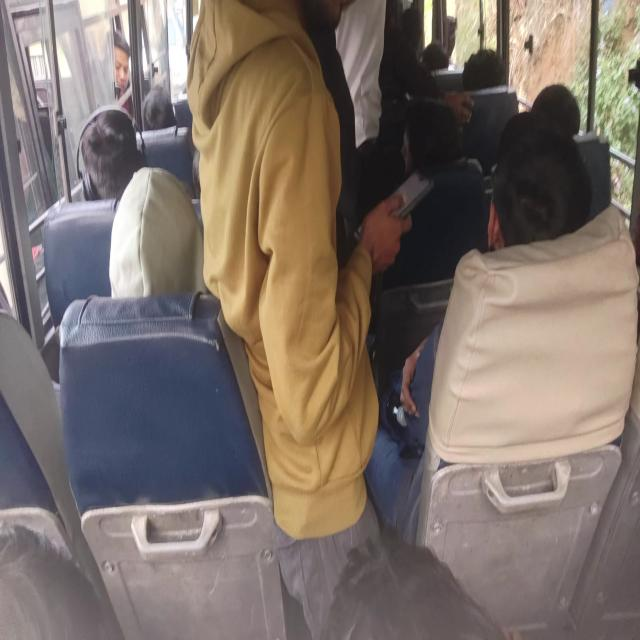person: (194, 0, 373, 383), (339, 542, 510, 640), (0, 502, 95, 640), (115, 174, 206, 309), (484, 133, 573, 251), (302, 0, 362, 171), (319, 0, 396, 126), (408, 102, 460, 183), (78, 111, 137, 178), (538, 79, 587, 138), (0, 279, 39, 351), (397, 5, 432, 65), (466, 38, 504, 92), (141, 85, 175, 131), (424, 43, 458, 81)
